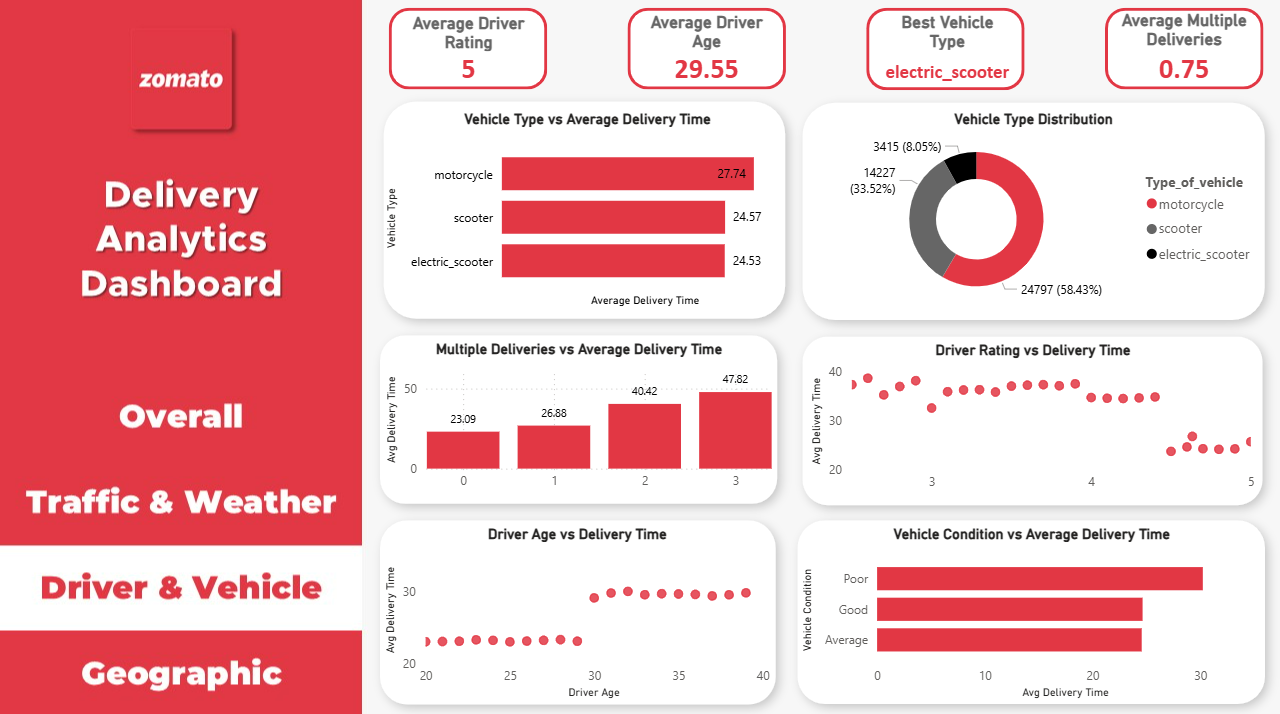

The dashboard page shown, as its layout file describes it:
{"tool":"powerbi","page":{"name":"Driver & Vehicle","canvas":[1280,720],"ordinal":3},"visuals":[{"type":"shape","box":[388.7,8.8,158.6,81.8],"z":0,"group":"g5"},{"type":"shape","box":[627.4,8.8,158.6,81.8],"z":0,"group":"g4"},{"type":"shape","box":[1105,8.8,158.6,81.8],"z":0,"group":"g3"},{"type":"shape","box":[787.5,88.2,492.2,247.3],"z":0,"group":"g7"},{"type":"shape","box":[365,321.3,427.1,198.6],"z":0,"group":"g8"},{"type":"shape","box":[787.8,321.9,490,198.8],"z":0,"group":"g9"},{"type":"shape","box":[364.6,505.7,425.7,214.3],"z":0,"group":"g10"},{"type":"shape","box":[782.2,506.2,497.5,213.8],"z":0,"group":"g11"},{"type":"actionButton","box":[0,632.2,363.6,87.8],"z":0},{"type":"card","title":"Average Multiple Deliveries","fields":{"Values":["Avg(Sorted_Zomato.multiple_deliveries)"]},"box":[1111.3,11.3,146,76.8],"z":1000,"group":"g3"},{"type":"group","id":"g1","title":"Group 4","box":[633.7,11.9,146,75.5],"z":1000,"group":"g4"},{"type":"card","title":"Average Driver Age","fields":{"Values":["Avg(Sorted_Zomato.Delivery_person_Age)"]},"box":[633.7,11.9,146,75.5],"z":1000,"group":"g1"},{"type":"card","title":"Best Vehicle Type","fields":{"Values":["Min(Sorted_Zomato.Type_of_vehicle)"]},"box":[877.5,12.5,140,85],"z":1000,"group":"g2"},{"type":"card","title":"Average Driver Rating","fields":{"Values":["Avg(Sorted_Zomato.Delivery_person_Ratings)"]},"box":[391.8,13.2,152.3,73],"z":1000,"group":"g5"},{"type":"donutChart","title":"Vehicle Type Distribution ","fields":{"Category":["Sorted_Zomato.Type_of_vehicle"],"Y":["Count(Sorted_Zomato.ID)"]},"box":[802.6,111.1,462.1,201.5],"z":1000,"group":"g7"},{"type":"clusteredColumnChart","title":"Multiple Deliveries vs Average Delivery Time","fields":{"Y":["Avg(Sorted_Zomato.Time_taken (min))"],"Category":["Sorted_Zomato.multiple_deliveries"]},"box":[380.7,341.3,395.7,158.6],"z":1000,"group":"g8"},{"type":"scatterChart","title":"Driver Rating vs Delivery Time","fields":{"Y":["Avg(Sorted_Zomato.Time_taken (min))"],"X":["Sorted_Zomato.Delivery_person_Ratings"]},"box":[805.9,341.9,453.8,158.8],"z":1000,"group":"g9"},{"type":"actionButton","box":[0,459.7,363.6,87.8],"z":1000},{"type":"scatterChart","title":"Driver Age vs Delivery Time","fields":{"Y":["Avg(Sorted_Zomato.Time_taken (min))"],"X":["Sorted_Zomato.Delivery_person_Age"]},"box":[380,525.5,395,178.8],"z":1000,"group":"g10"},{"type":"clusteredBarChart","title":"Vehicle Condition vs Average Delivery Time","fields":{"Y":["Avg(Sorted_Zomato.Time_taken (min))"],"Category":["Sorted_Zomato.Vehicle Condition Label"]},"box":[796.6,525.6,468.8,178.8],"z":1000,"group":"g11"},{"type":"actionButton","box":[0,371.9,363.6,87.8],"z":2000},{"type":"shape","box":[866.2,8.8,158.3,82.5],"z":3000},{"type":"group","id":"g2","title":"Group 3","box":[877.5,12.5,140,85],"z":4000},{"type":"group","id":"g3","title":"Group 1","box":[1105,8.8,158.8,82.5],"z":5000},{"type":"group","id":"g4","title":"Group 5","box":[627.4,8.8,158.8,82.5],"z":6000},{"type":"group","id":"g5","title":"Group 6","box":[388.7,8.8,158.6,81.8],"z":7000},{"type":"group","id":"g6","title":"Group 2","box":[369.3,87.9,431.4,247.1],"z":8000},{"type":"shape","box":[369.3,87.9,431.4,247.1],"z":8000,"group":"g6"},{"type":"group","id":"g7","title":"Group 7","box":[787.5,88.2,492.2,247.3],"z":9000},{"type":"clusteredBarChart","title":"Vehicle Type vs Average Delivery Time","fields":{"Category":["Sorted_Zomato.Type_of_vehicle"],"Y":["Avg(Sorted_Zomato.Time_taken (min))"]},"box":[376.4,110.8,417.1,201.4],"z":9000,"group":"g6"},{"type":"group","id":"g8","title":"Group 8","box":[365,321.3,427.1,198.6],"z":10000},{"type":"group","id":"g9","title":"Group 9","box":[787.8,321.9,490,198.8],"z":11000},{"type":"group","id":"g10","title":"Group 10","box":[364.6,505.7,425.7,214.3],"z":12000},{"type":"group","id":"g11","title":"Group 11","box":[782.2,506.2,497.5,213.8],"z":13000}]}

Visuals, with their boxes in screenshot pixels (x1, y1, x2, y2), scaled from the page's 1280x720 canvas onto the 1280x714 screenshot:
shape: bbox=(389, 9, 547, 90)
shape: bbox=(627, 9, 786, 90)
shape: bbox=(1105, 9, 1264, 90)
shape: bbox=(788, 87, 1279, 333)
shape: bbox=(365, 319, 792, 516)
shape: bbox=(788, 319, 1278, 516)
shape: bbox=(365, 501, 790, 713)
shape: bbox=(782, 502, 1279, 713)
actionButton: bbox=(0, 627, 364, 713)
"Average Multiple Deliveries" card: bbox=(1111, 11, 1257, 87)
"Group 4" group: bbox=(634, 12, 780, 87)
"Average Driver Age" card: bbox=(634, 12, 780, 87)
"Best Vehicle Type" card: bbox=(878, 12, 1018, 97)
"Average Driver Rating" card: bbox=(392, 13, 544, 85)
"Vehicle Type Distribution " donutChart: bbox=(803, 110, 1265, 310)
"Multiple Deliveries vs Average Delivery Time" clusteredColumnChart: bbox=(381, 338, 776, 496)
"Driver Rating vs Delivery Time" scatterChart: bbox=(806, 339, 1260, 497)
actionButton: bbox=(0, 456, 364, 543)
"Driver Age vs Delivery Time" scatterChart: bbox=(380, 521, 775, 698)
"Vehicle Condition vs Average Delivery Time" clusteredBarChart: bbox=(797, 521, 1265, 699)
actionButton: bbox=(0, 369, 364, 456)
shape: bbox=(866, 9, 1024, 91)
"Group 3" group: bbox=(878, 12, 1018, 97)
"Group 1" group: bbox=(1105, 9, 1264, 91)
"Group 5" group: bbox=(627, 9, 786, 91)
"Group 6" group: bbox=(389, 9, 547, 90)
"Group 2" group: bbox=(369, 87, 801, 332)
shape: bbox=(369, 87, 801, 332)
"Group 7" group: bbox=(788, 87, 1279, 333)
"Vehicle Type vs Average Delivery Time" clusteredBarChart: bbox=(376, 110, 794, 310)
"Group 8" group: bbox=(365, 319, 792, 516)
"Group 9" group: bbox=(788, 319, 1278, 516)
"Group 10" group: bbox=(365, 501, 790, 713)
"Group 11" group: bbox=(782, 502, 1279, 713)
